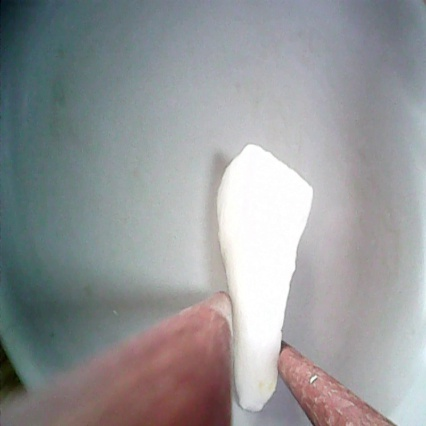white_chinese-yam: (215, 138, 314, 416)
